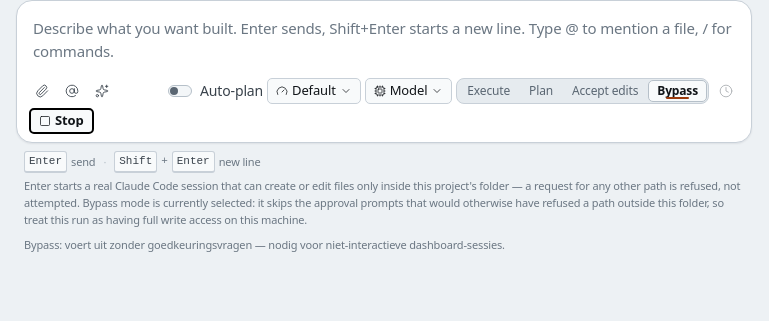
Test: Composer message queue (feat-composer-power) › a queued message can be removed before it ever sends
Replace the text in the text box named "Message Forge" with "Never mind" at (384, 36), box [29,9,739,64]
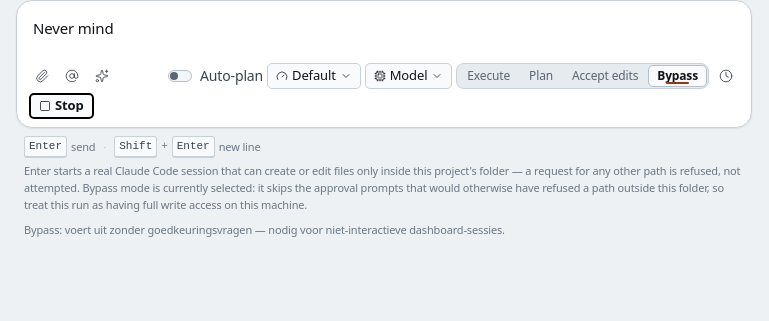
Click the button named "Queue message" at (726, 76), box [713,63,739,89]
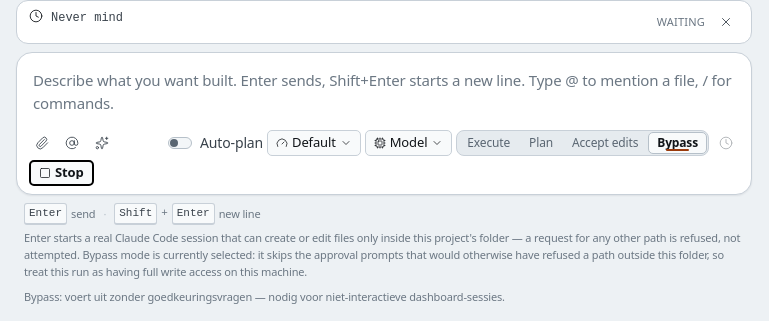
Expected: the text "Never mind" is shown, [51,11,123,25]
Click the button named "Remove queued message" at (726, 22), box [713,9,739,35]
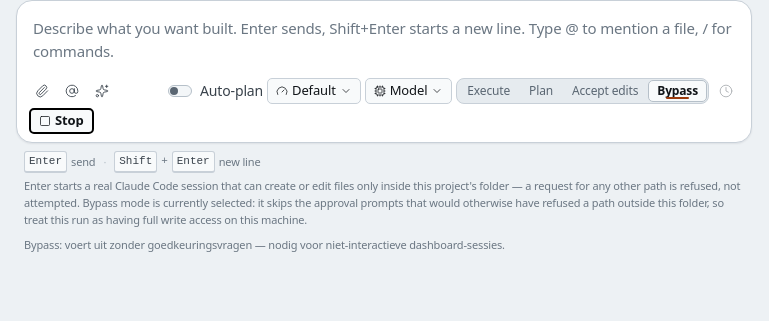
Expected: the text "Never mind" is gone
